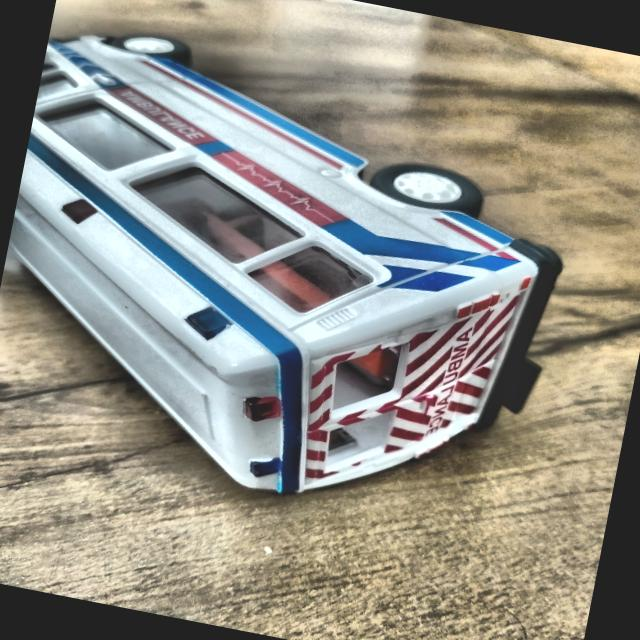Ambulance: (0, 9, 601, 556)
